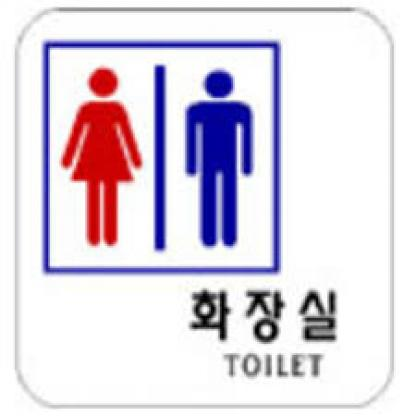toilet: (65, 64, 259, 248)
